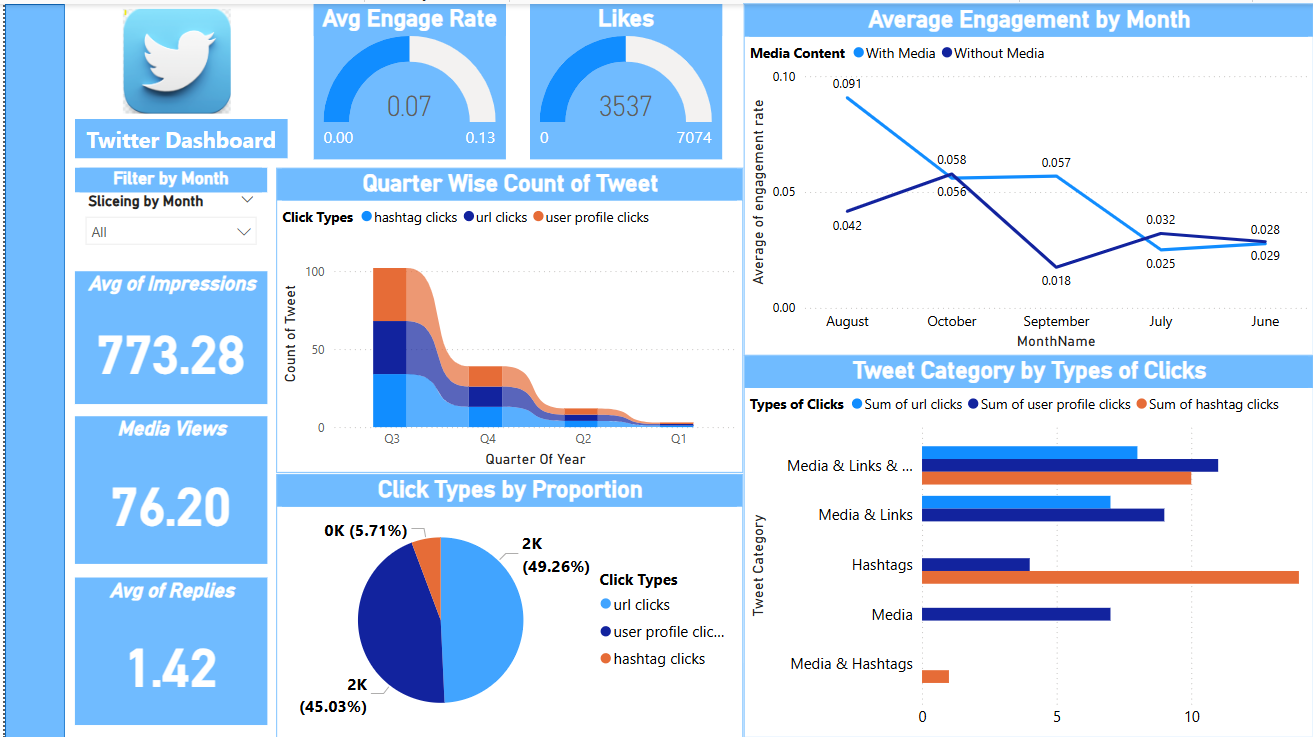

This screenshot's page, from the dashboard's own definition file:
{"tool":"powerbi","page":{"name":"Twitter Dashboard","canvas":[1280,720],"ordinal":0},"visuals":[{"type":"pieChart","title":"Click Types by Proportion","fields":{"Category":["SocialMedia.Click Types","SocialMedia.Tweet","SocialMedia.id"],"Y":["Sum(SocialMedia.Clisk Types Values)"]},"box":[266,459.4,456.5,260.3],"z":0},{"type":"shape","box":[0,0,58.7,720.2],"z":1000},{"type":"image","box":[91,0,155,112.4],"z":2000},{"type":"textbox","box":[68.3,112.4,207.6,38.4],"z":3000},{"type":"lineChart","title":"Average Engagement by Month","fields":{"Y":["Avg(SocialMedia (1).engagement rate)"],"Category":["SocialMedia (1).MonthName"],"Series":["SocialMedia (1).Media Content"]},"box":[722.5,0,557.5,344.2],"z":4000},{"type":"clusteredBarChart","title":"Tweet Category by Types of Clicks","fields":{"Y":["Sum(SocialMedia (2).url clicks)","Sum(SocialMedia (2).user profile clicks)","Sum(SocialMedia (2).hashtag clicks)"],"Category":["SocialMedia (2).Tweet Category"]},"box":[722.5,344.2,557.5,375.5],"z":5000},{"type":"ribbonChart","title":"Quarter Wise Count of Tweet","fields":{"Category":["SocialMedia (2).Quarter Of Year"],"Y":["CountNonNull(SocialMedia (2).Tweet)"],"Series":["SocialMedia.Click Types"]},"box":[266,160.7,456.5,298.7],"z":6000},{"type":"slicer","title":"Filter by Month","fields":{"Values":["SocialMedia.MonthName"]},"box":[68.3,160.7,187.7,86.8],"z":7000},{"type":"gauge","title":"Avg Engage Rate","fields":{"Y":["Avg(SocialMedia.engagement rate)"]},"box":[301.5,0,187.7,152.2],"z":8000},{"type":"gauge","title":"Likes","fields":{"Y":["CountNonNull(SocialMedia.likes)"]},"box":[513.4,0,187.7,152.2],"z":9000},{"type":"card","title":"Avg of Impressions","fields":{"Values":["Avg(SocialMedia.impressions)"]},"box":[68.3,261.7,187.7,129.4],"z":10000},{"type":"card","title":"Media Views","fields":{"Values":["Avg(SocialMedia (1).media views)"]},"box":[68.3,403.9,187.7,143.6],"z":11000},{"type":"card","title":"Avg of Replies","fields":{"Values":["Avg(SocialMedia (2).replies)"]},"box":[68.3,561.8,187.7,143.6],"z":12000}]}

Visuals, with their boxes in screenshot pixels (x1, y1, x2, y2), scaled from the page's 1280x720 canvas onto the 1313x737 screenshot:
"Click Types by Proportion" pieChart: [273, 470, 741, 736]
shape: [0, 0, 60, 736]
image: [93, 0, 252, 115]
textbox: [70, 115, 283, 154]
"Average Engagement by Month" lineChart: [741, 0, 1312, 352]
"Tweet Category by Types of Clicks" clusteredBarChart: [741, 352, 1312, 736]
"Quarter Wise Count of Tweet" ribbonChart: [273, 164, 741, 470]
"Filter by Month" slicer: [70, 164, 263, 253]
"Avg Engage Rate" gauge: [309, 0, 502, 156]
"Likes" gauge: [527, 0, 719, 156]
"Avg of Impressions" card: [70, 268, 263, 400]
"Media Views" card: [70, 413, 263, 560]
"Avg of Replies" card: [70, 575, 263, 722]
